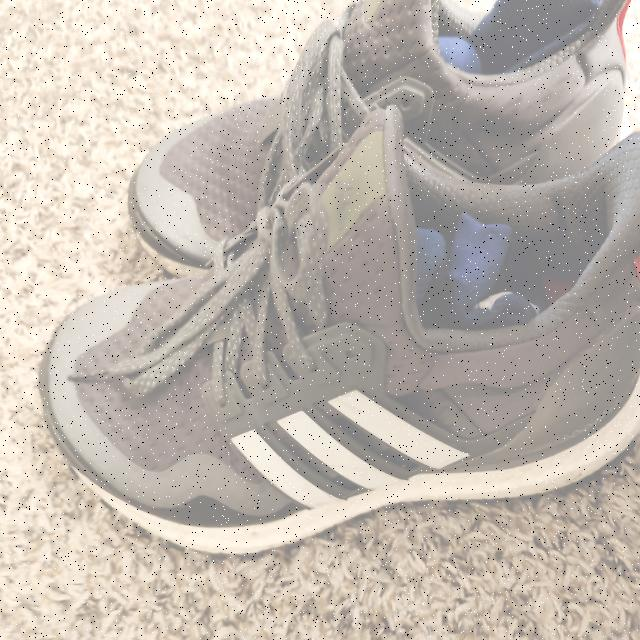black shoes: (47, 0, 640, 553)
